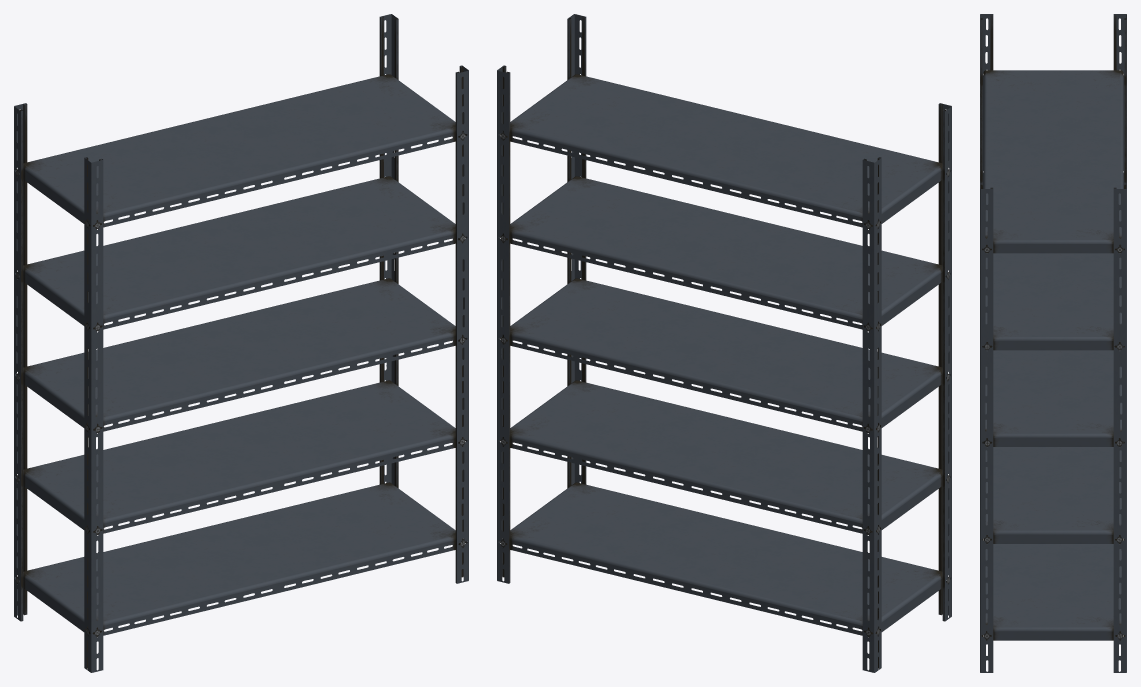
File: static_Cloner_1__0_4.obj
3 renders of one model, left to right at view 1: azimuth 30°, elevation 25°; view 2: azimuth 150°, elevation 25°; view 3: azimuth 270°, elevation 25°, orthographic. The views are drawn at different scales.
Size of the model in its own units: 1.55 by 2 by 0.55.
Materials: 1 (1 with a texture image).
